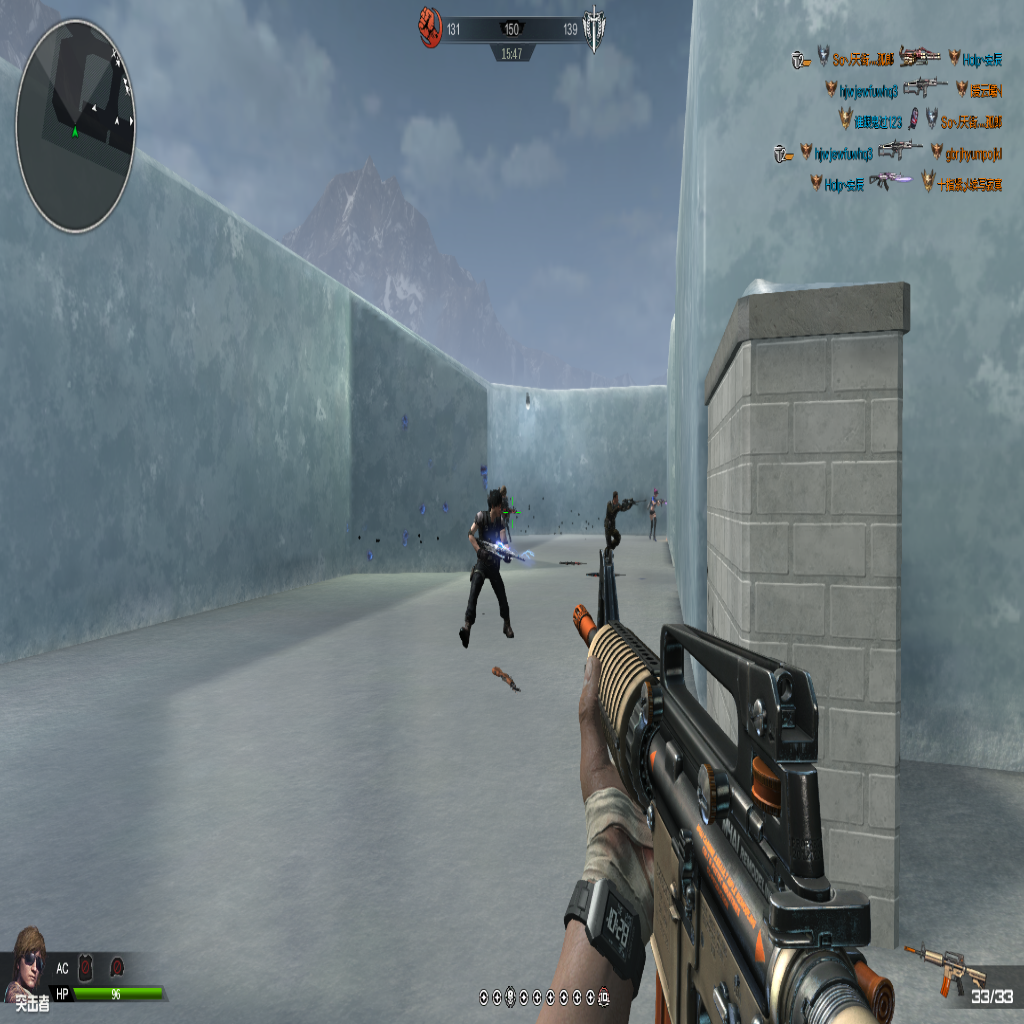ct: (461, 477, 518, 647), (647, 490, 660, 540)
